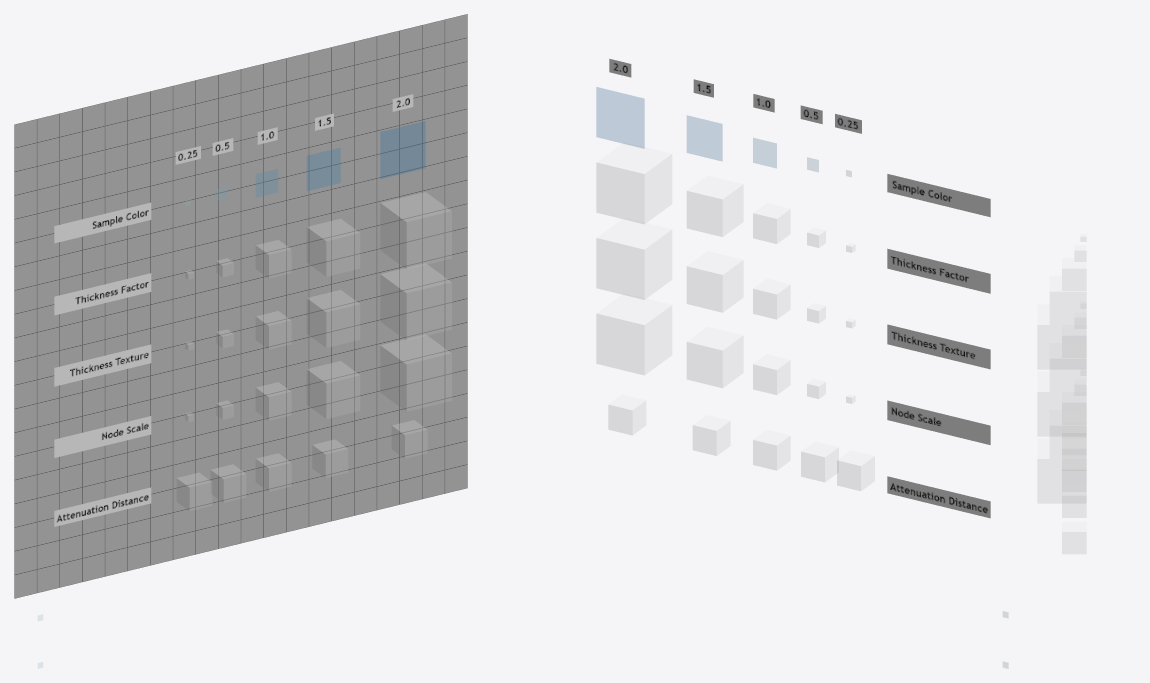
Rendered from 16_volume.gltf.
3 renders of one model, left to right at view 1: azimuth 30°, elevation 25°; view 2: azimuth 150°, elevation 25°; view 3: azimuth 270°, elevation 25°, orthographic. The views are drawn at different scales.
Parts seen in each view (by area): view 1: MeterGrid, Labels, R3_Block_Row, R2_Block_2.0, R4_Block_2.0, R2_Block_1.5, R4_Block_1.5, R1_Sample_2.0, R1_Sample_1.5, R5_Block_1.0, R5_Block_2.0, R4_Block_1.0 (+4 smaller); view 2: Labels, R3_Block_Row, R2_Block_2.0, R4_Block_2.0, R4_Block_1.5, R2_Block_1.5, R1_Sample_2.0, R1_Sample_1.5, R2_Block_1.0, R5_Block_1.5, R4_Block_1.0, R5_Block_2.0 (+3 smaller); view 3: R3_Block_Row, R2_Block_2.0, R4_Block_2.0, R2_Block_1.5, R4_Block_1.5, R2_Block_1.0, R5_Block_2.0, R5_Block_1.5, R5_Block_1.0, R4_Block_1.0, R2_Block_0.50.
Boxes of the visible parts, left/top/right/bottom form: MeterGrid: left=14, top=14, right=467, bottom=598; Labels: left=54, top=94, right=413, bottom=526; R3_Block_Row: left=185, top=264, right=451, bottom=350; R2_Block_2.0: left=380, top=192, right=451, bottom=268; R4_Block_2.0: left=380, top=335, right=451, bottom=411; R2_Block_1.5: left=307, top=219, right=359, bottom=276; R4_Block_1.5: left=307, top=361, right=359, bottom=418; R1_Sample_2.0: left=380, top=121, right=425, bottom=178; R1_Sample_1.5: left=307, top=148, right=340, bottom=190; R5_Block_1.0: left=256, top=453, right=291, bottom=491; R5_Block_2.0: left=392, top=420, right=427, bottom=458; R4_Block_1.0: left=256, top=382, right=291, bottom=420; Labels: left=609, top=58, right=990, bottom=518; R3_Block_Row: left=596, top=218, right=855, bottom=327; R2_Block_2.0: left=596, top=142, right=671, bottom=223; R4_Block_2.0: left=596, top=294, right=671, bottom=374; R4_Block_1.5: left=687, top=327, right=743, bottom=387; R2_Block_1.5: left=687, top=176, right=743, bottom=236; R1_Sample_2.0: left=596, top=87, right=644, bottom=148; R1_Sample_1.5: left=687, top=115, right=722, bottom=160; R2_Block_1.0: left=753, top=203, right=790, bottom=243; R5_Block_1.5: left=693, top=415, right=730, bottom=455; R4_Block_1.0: left=753, top=354, right=790, bottom=394; R5_Block_2.0: left=608, top=395, right=645, bottom=434; R3_Block_Row: left=1037, top=301, right=1086, bottom=436; R2_Block_2.0: left=1037, top=304, right=1086, bottom=369; R4_Block_2.0: left=1037, top=438, right=1086, bottom=503; R2_Block_1.5: left=1050, top=276, right=1086, bottom=324; R4_Block_1.5: left=1050, top=410, right=1086, bottom=458; R2_Block_1.0: left=1062, top=258, right=1086, bottom=290; R5_Block_2.0: left=1062, top=522, right=1086, bottom=553; R5_Block_1.5: left=1062, top=486, right=1086, bottom=517; R5_Block_1.0: left=1062, top=459, right=1085, bottom=485; R4_Block_1.0: left=1062, top=392, right=1085, bottom=409; R2_Block_0.50: left=1074, top=245, right=1086, bottom=261.
Bounding box in the file's own units: 20.12 × 22.12 × 4.
Materials: 20 (2 with a texture image).
